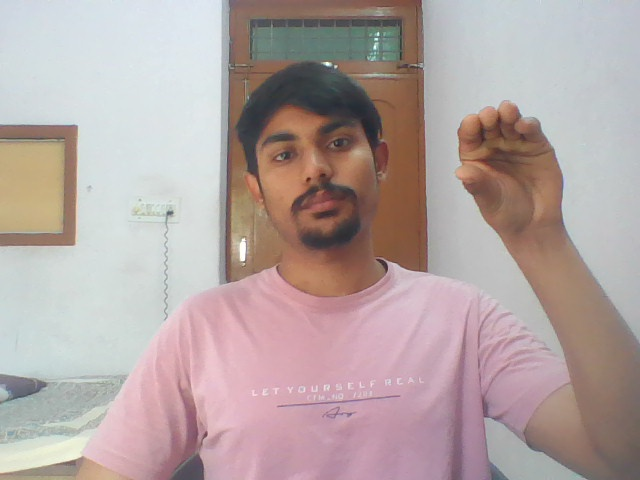No: (434, 96, 574, 237)
